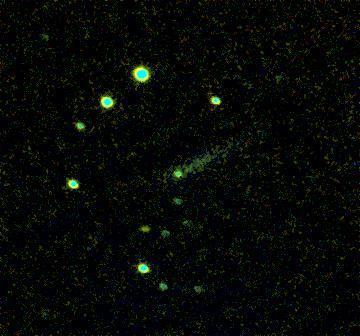star: (131, 212, 161, 242)
